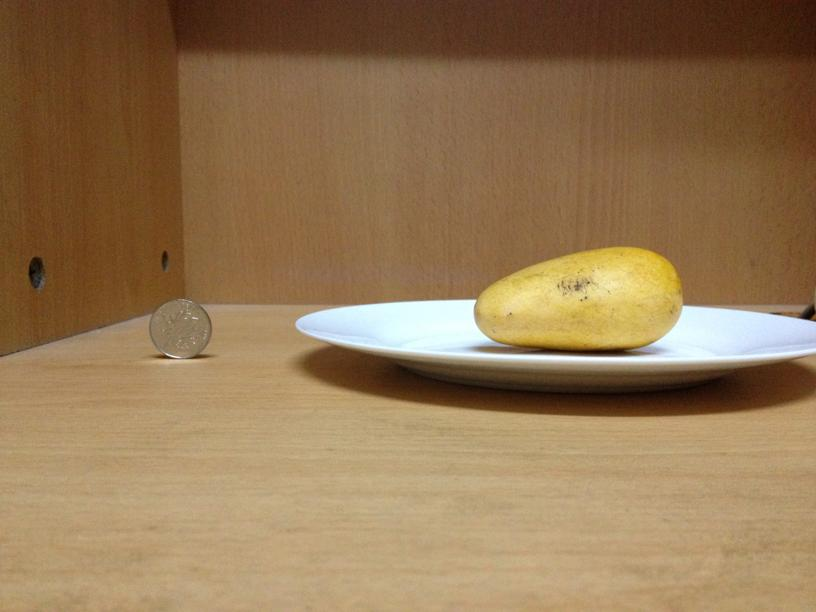coin: (150, 299, 211, 360)
mango: (468, 244, 683, 350)
